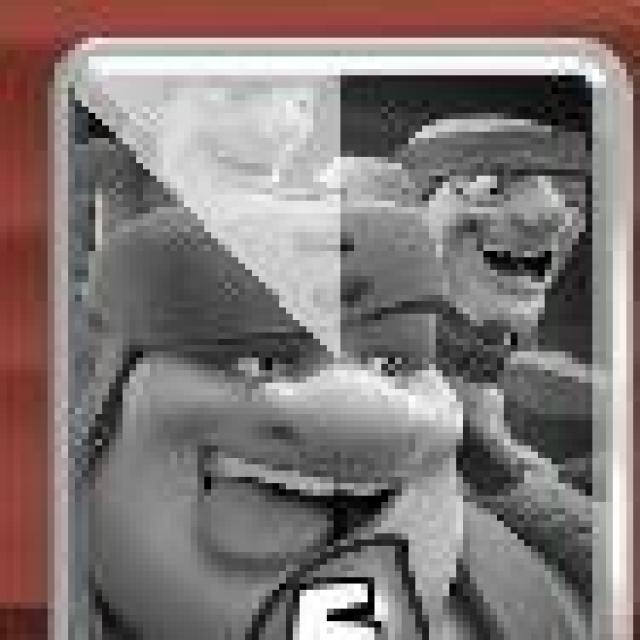Goblin_Giant: (55, 37, 634, 640)
